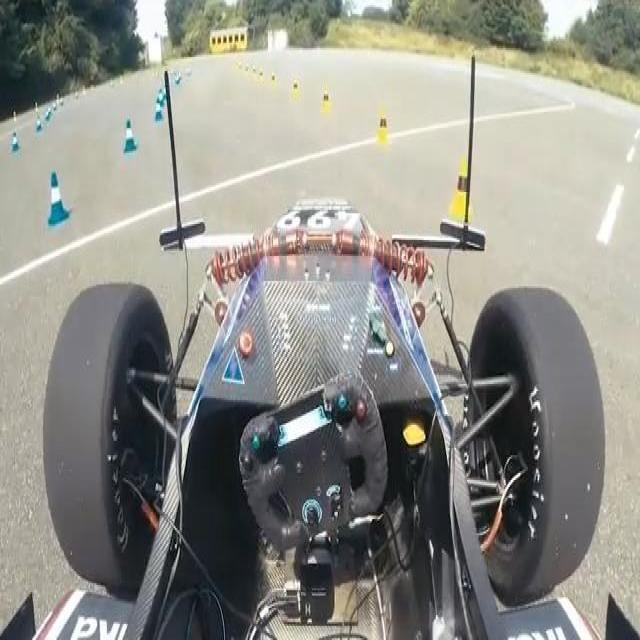blue_cone: (31, 167, 69, 225), (114, 103, 148, 162)
yellow_cone: (443, 164, 476, 233), (368, 103, 399, 157), (318, 76, 329, 118)
